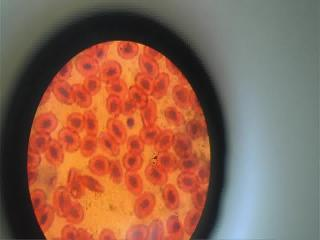cell: (66, 169, 90, 195), (152, 70, 172, 98), (108, 116, 132, 138), (34, 112, 60, 132), (57, 128, 80, 150), (180, 171, 201, 194), (84, 108, 102, 133), (138, 54, 158, 76), (164, 108, 186, 128), (100, 60, 121, 80), (100, 132, 120, 153), (83, 74, 102, 96), (57, 81, 74, 105), (173, 84, 190, 108), (166, 215, 182, 240), (46, 142, 64, 164), (130, 86, 147, 109), (29, 187, 46, 210), (138, 126, 162, 142), (125, 224, 149, 240), (66, 111, 86, 130), (88, 154, 107, 174), (74, 81, 88, 108), (186, 209, 202, 232), (180, 157, 206, 171), (56, 187, 70, 213), (134, 73, 153, 92), (136, 196, 156, 214), (126, 171, 143, 192), (67, 202, 88, 219), (106, 80, 128, 96), (110, 159, 124, 184), (145, 100, 159, 125), (77, 57, 97, 74), (119, 43, 140, 59), (157, 155, 178, 171), (164, 188, 180, 209), (126, 135, 146, 151), (159, 131, 175, 151), (84, 135, 98, 157), (148, 166, 165, 184), (30, 134, 49, 150), (150, 217, 163, 240), (125, 153, 145, 167), (59, 61, 75, 78), (104, 98, 120, 114), (122, 97, 134, 117)
